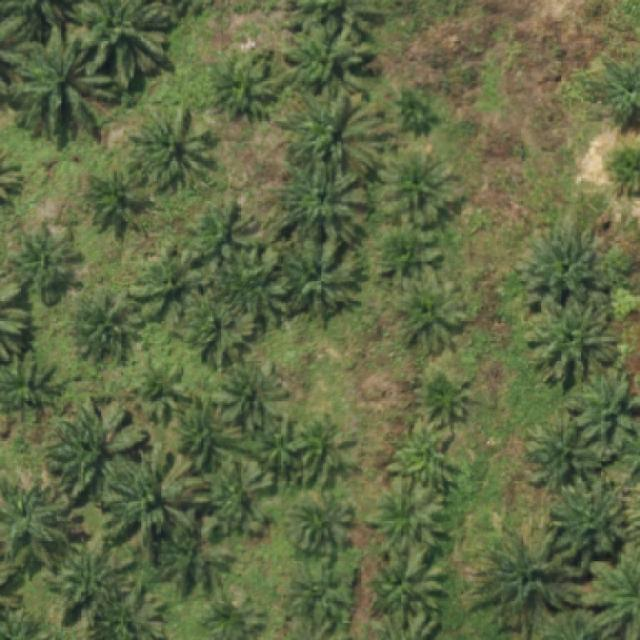Kelapa_Sawit: (460, 510, 589, 638), (6, 23, 117, 149), (98, 449, 212, 569), (274, 82, 391, 178), (44, 396, 148, 499), (270, 158, 372, 250), (524, 300, 622, 392), (287, 13, 379, 101), (546, 474, 626, 574), (126, 101, 212, 193), (519, 222, 610, 308), (527, 410, 618, 496), (151, 508, 235, 601), (42, 528, 136, 610), (363, 542, 449, 630), (388, 264, 472, 354), (124, 237, 213, 321), (282, 232, 366, 320), (384, 140, 464, 231), (176, 286, 259, 368), (366, 474, 448, 557), (218, 242, 292, 331), (184, 193, 264, 273), (12, 217, 83, 306), (568, 374, 640, 460), (213, 43, 287, 125), (214, 360, 291, 438), (384, 417, 461, 494), (203, 453, 274, 535), (172, 394, 246, 471), (73, 286, 141, 366), (290, 412, 358, 492), (88, 161, 155, 242), (287, 555, 358, 627), (127, 351, 195, 423), (286, 488, 356, 554), (412, 358, 473, 428), (194, 581, 265, 640), (373, 222, 444, 278), (250, 414, 301, 491), (394, 86, 440, 136)
